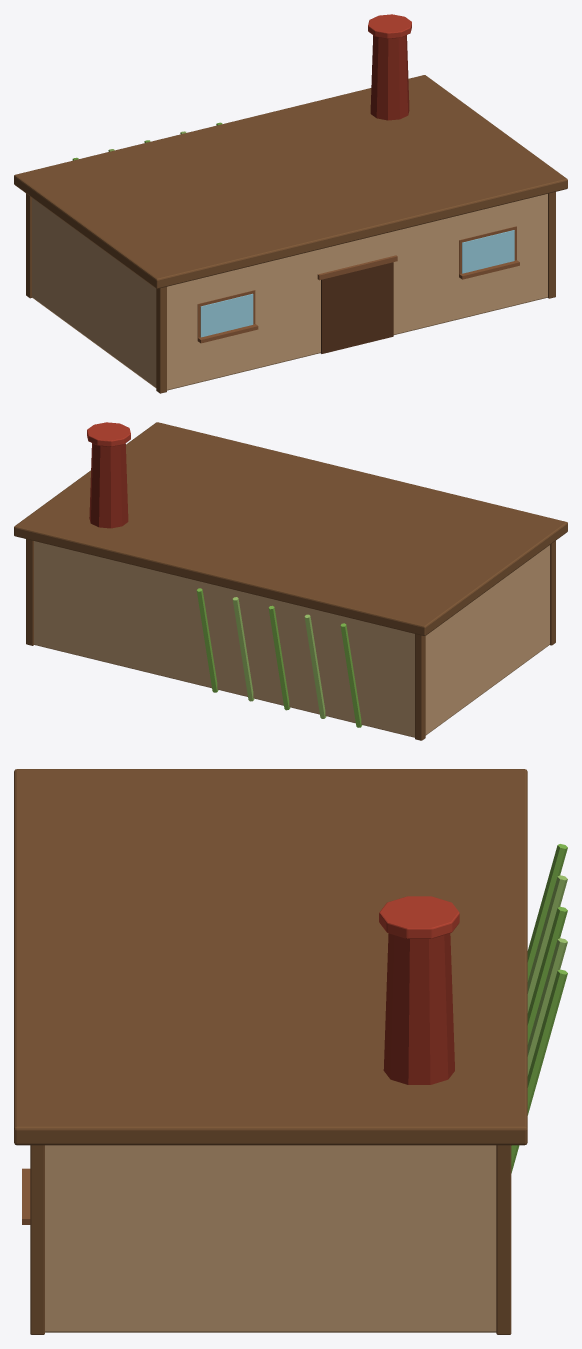
The model's file is xuong-tre.glb.
3 views of the same model, one above another, from view 1: azimuth 30°, elevation 25°; view 2: azimuth 150°, elevation 25°; view 3: azimuth 270°, elevation 25° (orthographic). The views are drawn at different scales.
Visible parts, largest first — view 1: xuong-tre-1, xuong-tre-0, xuong-tre-2, xuong-tre-14, xuong-tre-4, xuong-tre-7, xuong-tre-11, xuong-tre-15, xuong-tre-13, xuong-tre-10, xuong-tre-3; view 2: xuong-tre-1, xuong-tre-0, xuong-tre-14, xuong-tre-10, xuong-tre-15, xuong-tre-12, xuong-tre-16, xuong-tre-17, xuong-tre-18, xuong-tre-20, xuong-tre-19, xuong-tre-11; view 3: xuong-tre-1, xuong-tre-0, xuong-tre-14, xuong-tre-12, xuong-tre-15, xuong-tre-13, xuong-tre-20, xuong-tre-17, xuong-tre-18, xuong-tre-16, xuong-tre-19.
Part boxes in pixels (bbox=[...]): xuong-tre-1: bbox=[14, 75, 567, 288]; xuong-tre-0: bbox=[32, 194, 547, 390]; xuong-tre-2: bbox=[321, 262, 393, 353]; xuong-tre-14: bbox=[370, 35, 409, 120]; xuong-tre-4: bbox=[200, 293, 253, 337]; xuong-tre-7: bbox=[462, 230, 514, 273]; xuong-tre-11: bbox=[156, 287, 166, 393]; xuong-tre-15: bbox=[368, 14, 411, 38]; xuong-tre-13: bbox=[547, 192, 555, 298]; xuong-tre-10: bbox=[26, 193, 31, 298]; xuong-tre-3: bbox=[317, 255, 397, 280]; xuong-tre-1: bbox=[14, 422, 567, 635]; xuong-tre-0: bbox=[34, 541, 549, 737]; xuong-tre-14: bbox=[89, 443, 128, 528]; xuong-tre-10: bbox=[415, 634, 425, 740]; xuong-tre-15: bbox=[87, 422, 130, 446]; xuong-tre-12: bbox=[26, 539, 34, 645]; xuong-tre-16: bbox=[340, 623, 362, 727]; xuong-tre-17: bbox=[304, 614, 326, 718]; xuong-tre-18: bbox=[268, 605, 290, 710]; xuong-tre-20: bbox=[196, 588, 218, 692]; xuong-tre-19: bbox=[232, 597, 254, 701]; xuong-tre-11: bbox=[550, 541, 555, 645]; xuong-tre-1: bbox=[14, 769, 527, 1145]; xuong-tre-0: bbox=[45, 1145, 496, 1332]; xuong-tre-14: bbox=[383, 933, 454, 1084]; xuong-tre-12: bbox=[496, 1145, 511, 1334]; xuong-tre-15: bbox=[379, 896, 459, 938]; xuong-tre-13: bbox=[30, 1145, 44, 1334]; xuong-tre-20: bbox=[511, 969, 567, 1173]; xuong-tre-17: bbox=[527, 875, 567, 1012]; xuong-tre-18: bbox=[527, 906, 567, 1044]; xuong-tre-16: bbox=[527, 844, 567, 981]; xuong-tre-19: bbox=[527, 938, 567, 1075].
Size of the model in its own units: 12.6 by 6.16 by 8.2.
